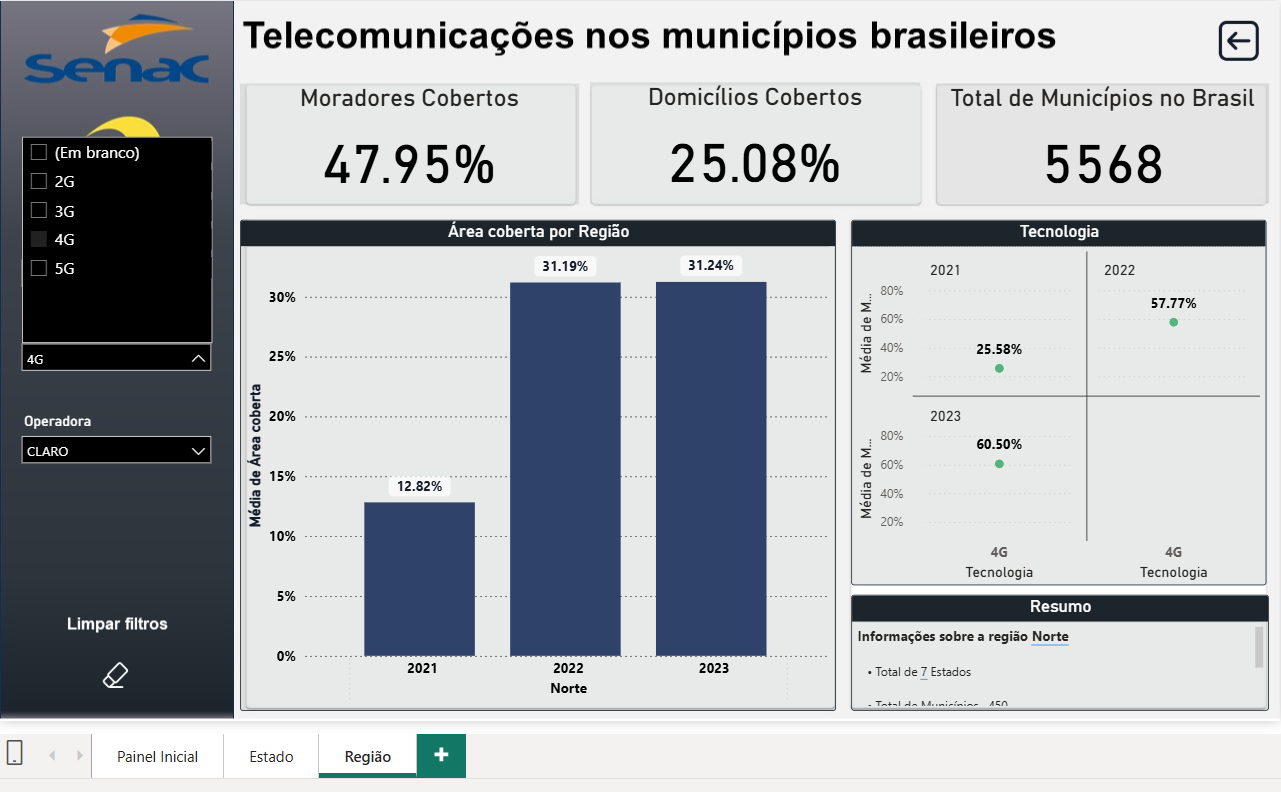

The dashboard page shown, as its layout file describes it:
{"tool":"powerbi","page":{"name":"Região","canvas":[1280,720],"ordinal":2},"visuals":[{"type":"slicer","fields":{"Values":["Região.Região"]},"box":[11.7,230,210,91.7],"z":0},{"type":"card","title":"Moradores Cobertos","fields":{"Values":["Avg(Fato.Moradores cobertos)"]},"box":[240,82,338.9,120.6],"z":1000},{"type":"card","title":"Domicílios Cobertos","fields":{"Values":["Avg(Fato.% Área coberta)"]},"box":[590,81.2,330,121.2],"z":2000},{"type":"card","title":"Total de Municípios no Brasil","fields":{"Values":["Median(Fato.TotalMunicipios)"]},"box":[936.2,82.5,332.5,120],"z":3000},{"type":"lineStackedColumnComboChart","title":"Área coberta por Região","fields":{"Category":["Região.Região","Calendario.Date.Variation.Hierarquia de datas.Ano"],"Y":["Avg(Fato.% Área coberta)"]},"box":[240,218.3,595.8,490.9],"z":4000},{"type":"image","box":[31.7,655,168.3,38.3],"z":5000},{"type":"image","box":[1210,15,58.3,50],"z":6000},{"type":"slicer","fields":{"Values":["Tecnologia.Tecnologia"]},"box":[11.2,313.8,210,92.5],"z":7000},{"type":"textbox","title":"Resumo","box":[851.5,593.4,417.3,115.8],"z":8000},{"type":"areaChart","title":"Tecnologia","fields":{"Y":["Avg(Fato.Moradores cobertos)"],"Category":["Tecnologia.Tecnologia"],"Rows":["Calendario.Date.Variation.Hierarquia de datas.Ano"]},"box":[851.5,218.3,414.9,365.4],"z":9000},{"type":"slicer","fields":{"Values":["Operadora.Operadora"]},"box":[11.2,406.2,210,92.5],"z":10000}]}

Visuals, with their boxes on the page's 1280x720 design canvas (x1, y1, x2, y2). These are canvas units, not pixel positions in the 1281x792 screenshot, which may show the page scaled, cropped or inside an application window:
slicer - Região.Região: detection(12, 230, 222, 322)
"Moradores Cobertos" card: detection(240, 82, 579, 203)
"Domicílios Cobertos" card: detection(590, 81, 920, 202)
"Total de Municípios no Brasil" card: detection(936, 82, 1269, 202)
"Área coberta por Região" lineStackedColumnComboChart: detection(240, 218, 836, 709)
image: detection(32, 655, 200, 693)
image: detection(1210, 15, 1268, 65)
slicer - Tecnologia.Tecnologia: detection(11, 314, 221, 406)
"Resumo" textbox: detection(852, 593, 1269, 709)
"Tecnologia" areaChart: detection(852, 218, 1266, 584)
slicer - Operadora.Operadora: detection(11, 406, 221, 499)
